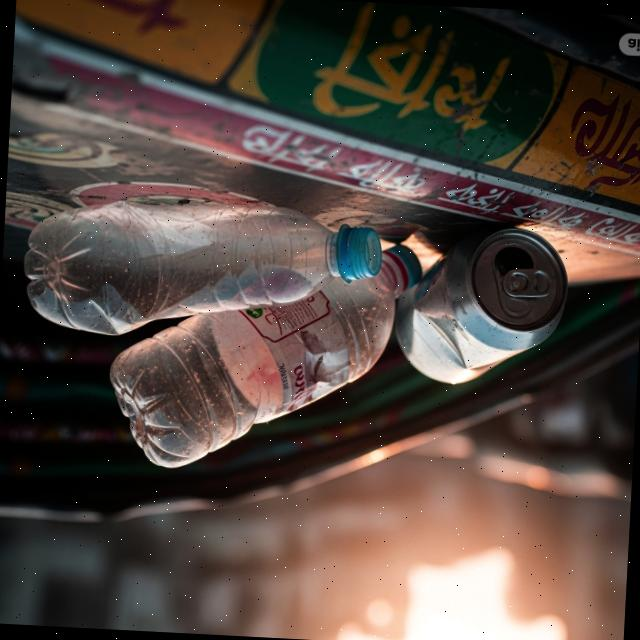aluminum: (390, 220, 572, 392)
plastic: (104, 225, 427, 484), (19, 188, 386, 351)
